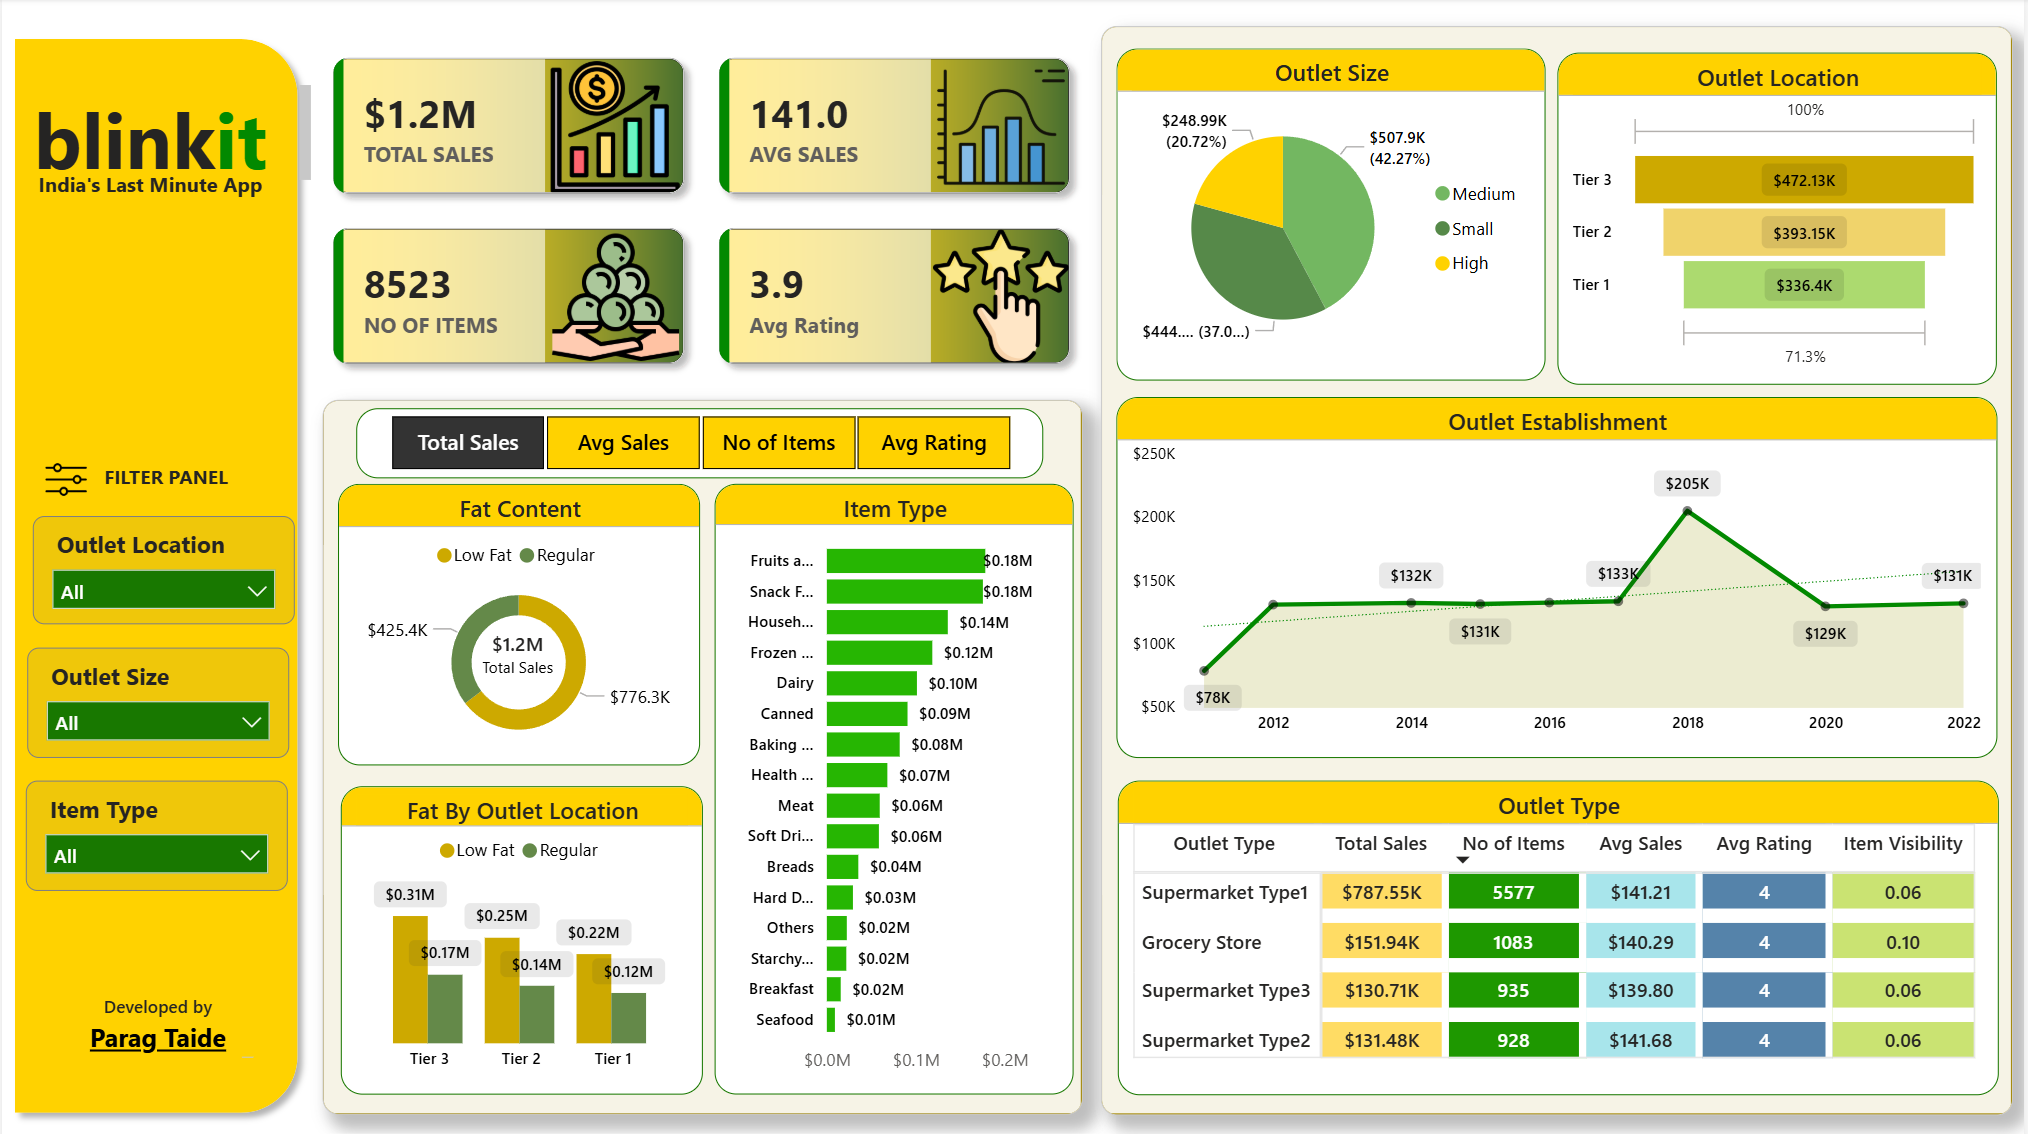

This screenshot's page, from the dashboard's own definition file:
{"tool":"powerbi","page":{"name":"Page 1","canvas":[1400,800],"ordinal":0},"visuals":[{"type":"shape","box":[0,19.6,213.6,761.5],"z":0},{"type":"textbox","box":[17.5,55.7,201.2,78.4],"z":1000},{"type":"textbox","box":[20.6,114.5,176.4,39.2],"z":2000},{"type":"cardVisual","fields":{"Data":["BlinkIT Grocery Data.Total Sales","BlinkIT Grocery Data.Avg Sales","BlinkIT Grocery Data.No of Items","BlinkIT Grocery Data.Avg Rating"]},"box":[207.4,19.6,555.1,256.9],"z":3000},{"type":"shape","box":[221.8,278.6,526.2,495.3],"z":4000},{"type":"donutChart","title":"Fat Content","fields":{"Category":["BlinkIT Grocery Data.Item Fat Content"],"Y":["BlinkIT Grocery Data.Total Sales"]},"box":[232.2,336.4,250.7,195],"z":5000},{"type":"slicer","fields":{"Values":["Metrics.Metrics"]},"box":[245.6,283.8,475.7,48.5],"z":6000},{"type":"cardVisual","fields":{"Data":["BlinkIT Grocery Data.Total Sales"]},"box":[297.2,421,119.7,67.1],"z":7000},{"type":"clusteredColumnChart","title":"Fat By Outlet Location","fields":{"Category":["BlinkIT Grocery Data.Outlet Location Type"],"Series":["BlinkIT Grocery Data.Item Fat Content"],"Y":["BlinkIT Grocery Data.Total Sales"]},"box":[234.2,545.8,250.7,213.6],"z":8000},{"type":"barChart","title":"Item Type","fields":{"Category":["BlinkIT Grocery Data.Item Type"],"Y":["BlinkIT Grocery Data.Total Sales"]},"box":[493.2,336.4,248.7,423.1],"z":9000},{"type":"shape","box":[760.5,19.6,631.5,754.3],"z":10000},{"type":"lineChart","title":"Outlet Establishment","fields":{"Category":["BlinkIT Grocery Data.Outlet Establishment Year"],"Y":["BlinkIT Grocery Data.Total Sales"]},"box":[771.8,276.5,609.8,249.7],"z":11000},{"type":"pieChart","title":"Outlet Size","fields":{"Category":["BlinkIT Grocery Data.Outlet Size"],"Y":["Sum(BlinkIT Grocery Data.Sales)"]},"box":[771.8,35.1,297.2,230.1],"z":12000},{"type":"funnel","title":"Outlet Location","fields":{"Category":["BlinkIT Grocery Data.Outlet Location Type"],"Y":["Sum(BlinkIT Grocery Data.Sales)"]},"box":[1077.2,38.2,304.4,230.1],"z":13000},{"type":"pivotTable","title":"Outlet Type","fields":{"Rows":["BlinkIT Grocery Data.Outlet Type"],"Values":["BlinkIT Grocery Data.Total Sales","BlinkIT Grocery Data.No of Items","BlinkIT Grocery Data.Avg Sales","BlinkIT Grocery Data.Avg Rating","Avg(BlinkIT Grocery Data.Item Visibility)"]},"box":[772.8,541.7,609.8,217.7],"z":14000},{"type":"slicer","title":"Outlet Location Type","fields":{"Values":["BlinkIT Grocery Data.Outlet Location Type"]},"box":[21.7,359.1,181.6,75.3],"z":15000},{"type":"slicer","title":"Outlet Location Type","fields":{"Values":["BlinkIT Grocery Data.Outlet Size"]},"box":[17.5,449.9,181.6,76.4],"z":16000},{"type":"slicer","title":"Outlet Location Type","fields":{"Values":["BlinkIT Grocery Data.Item Type"]},"box":[16.5,541.7,181.6,76.4],"z":17000},{"type":"textbox","title":"Developed by","box":[37.1,690.3,142.4,48.5],"z":18000},{"type":"image","title":"Filter Panel","box":[28.9,316.8,31,33],"z":19000},{"type":"textbox","box":[66,316.8,105.2,27.9],"z":20000}]}

Visuals, with their boxes in screenshot pixels (x1, y1, x2, y2), scaled from the page's 1400x800 canvas onto the 2028x1134 screenshot:
shape: box=[0, 28, 309, 1107]
textbox: box=[25, 79, 317, 190]
textbox: box=[30, 162, 285, 218]
cardVisual - BlinkIT Grocery Data.Total Sales x BlinkIT Grocery Data.Avg Sales: box=[300, 28, 1105, 392]
shape: box=[321, 395, 1084, 1097]
"Fat Content" donutChart: box=[336, 477, 700, 753]
slicer - Metrics.Metrics: box=[356, 402, 1045, 471]
cardVisual - BlinkIT Grocery Data.Total Sales: box=[431, 597, 604, 692]
"Fat By Outlet Location" clusteredColumnChart: box=[339, 774, 702, 1076]
"Item Type" barChart: box=[714, 477, 1075, 1077]
shape: box=[1102, 28, 2016, 1097]
"Outlet Establishment" lineChart: box=[1118, 392, 2001, 746]
"Outlet Size" pieChart: box=[1118, 50, 1549, 376]
"Outlet Location" funnel: box=[1560, 54, 2001, 380]
"Outlet Type" pivotTable: box=[1119, 768, 2003, 1076]
"Outlet Location Type" slicer: box=[31, 509, 294, 616]
"Outlet Location Type" slicer: box=[25, 638, 288, 746]
"Outlet Location Type" slicer: box=[24, 768, 287, 876]
"Developed by" textbox: box=[54, 979, 260, 1047]
"Filter Panel" image: box=[42, 449, 87, 496]
textbox: box=[96, 449, 248, 489]
